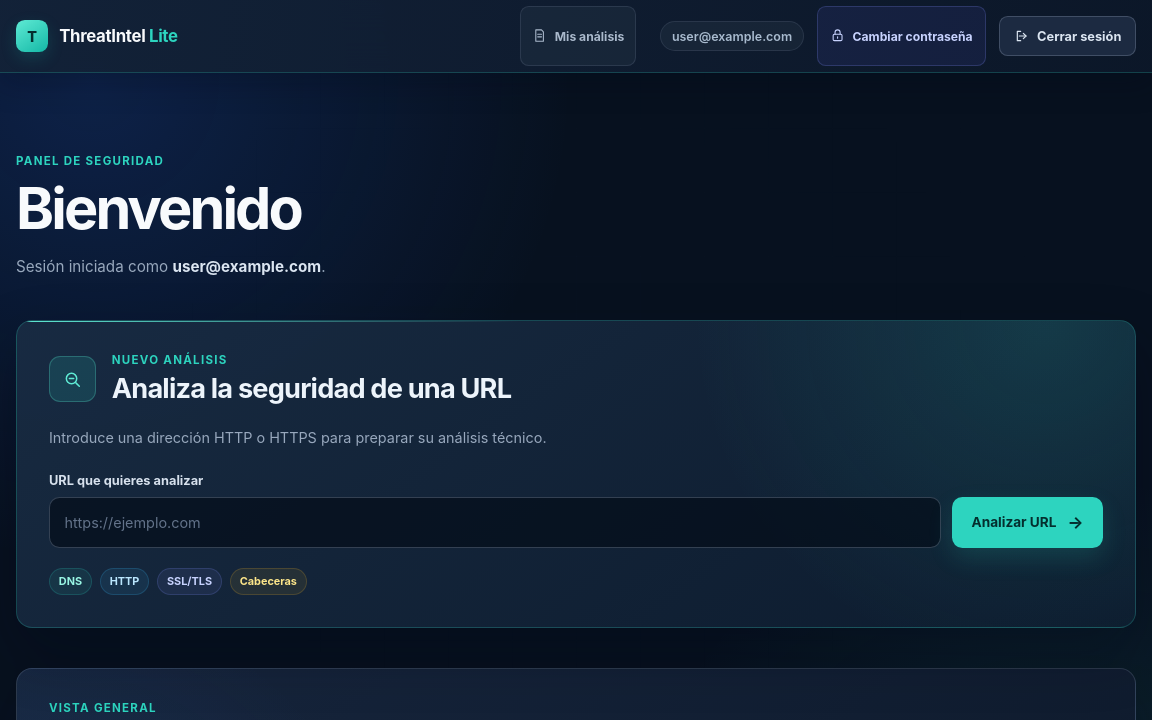
Test: DashboardPage › shows an error when logout fails
Check: the text "user@example.com" next to "Cambiar contraseña" is shown, box [672,28,792,44]
Click the button "Cerrar sesión".
click(1068, 36)  # box [999,16,1136,56]
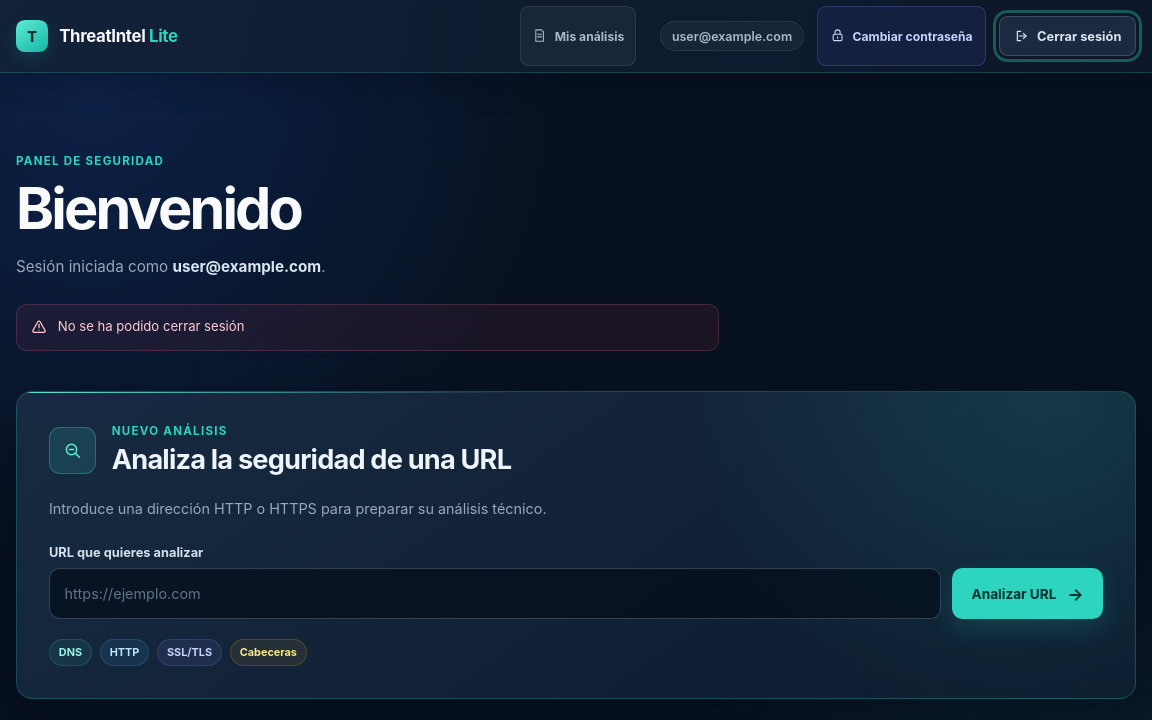
Check: the heading "Bienvenido" is shown, box [16,173,301,243]
Check: the message reads "No se ha podido cerrar sesión", box [58,318,244,334]
